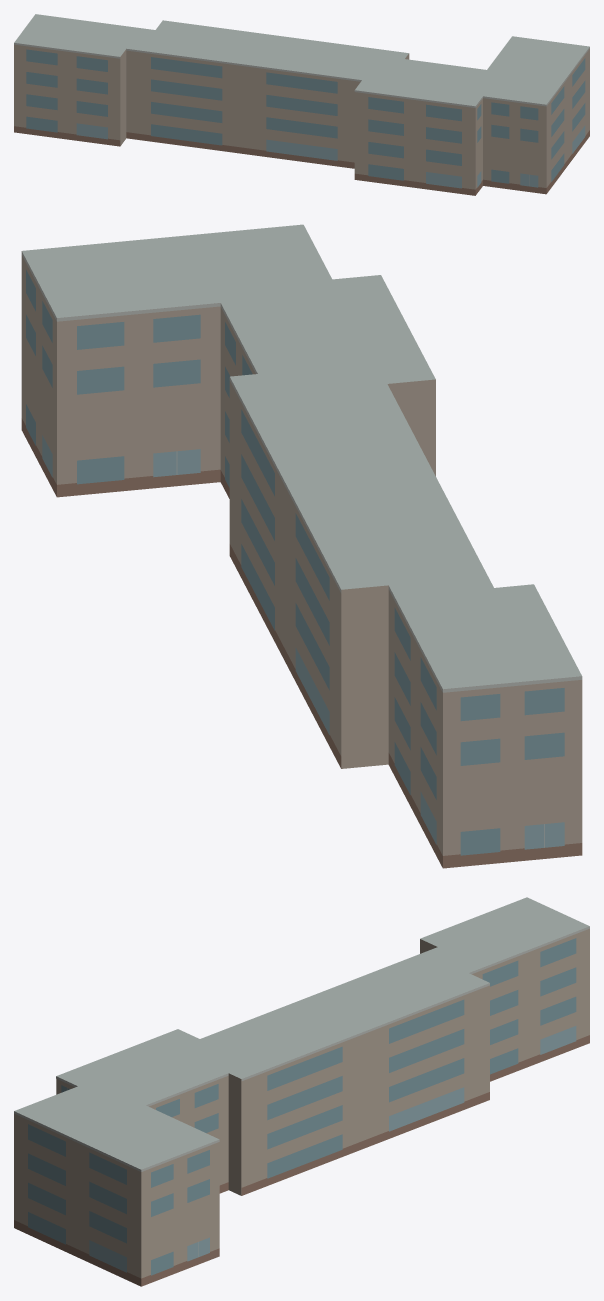
Rendered from residential-be4b6e64-2582-4ae3-8096-51dc1ebc831c.glb.
The picture shows the model from 3 angles, top to bottom: view 1: azimuth 30°, elevation 25°; view 2: azimuth 150°, elevation 25°; view 3: azimuth 270°, elevation 25°; orthographic projection. The views are drawn at different scales.
Parts seen in each view (by area): view 1: residential-be4b6e64-2582-4ae3-8096-51dc1ebc831c.tmp; view 2: residential-be4b6e64-2582-4ae3-8096-51dc1ebc831c.tmp; view 3: residential-be4b6e64-2582-4ae3-8096-51dc1ebc831c.tmp.
Part boxes in pixels (bbox=[...]): residential-be4b6e64-2582-4ae3-8096-51dc1ebc831c.tmp: bbox=[14, 14, 589, 195]; residential-be4b6e64-2582-4ae3-8096-51dc1ebc831c.tmp: bbox=[21, 224, 582, 868]; residential-be4b6e64-2582-4ae3-8096-51dc1ebc831c.tmp: bbox=[14, 897, 589, 1286].
Bounding box in the file's own units: 61 × 12.2 × 54.47.
